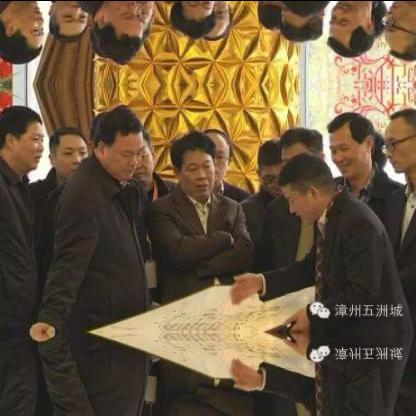No Helmet: (90, 104, 144, 180), (279, 145, 333, 217), (326, 106, 378, 176), (89, 0, 145, 63), (325, 0, 380, 61), (0, 0, 49, 63), (170, 132, 218, 196), (377, 102, 413, 176), (376, 0, 414, 64), (46, 124, 90, 174), (46, 0, 91, 43), (130, 125, 158, 189), (169, 0, 220, 35), (280, 123, 322, 165), (280, 1, 322, 43), (254, 138, 286, 192), (205, 124, 231, 184), (278, 0, 334, 22), (204, 0, 232, 42), (130, 0, 158, 42), (254, 0, 287, 29)
